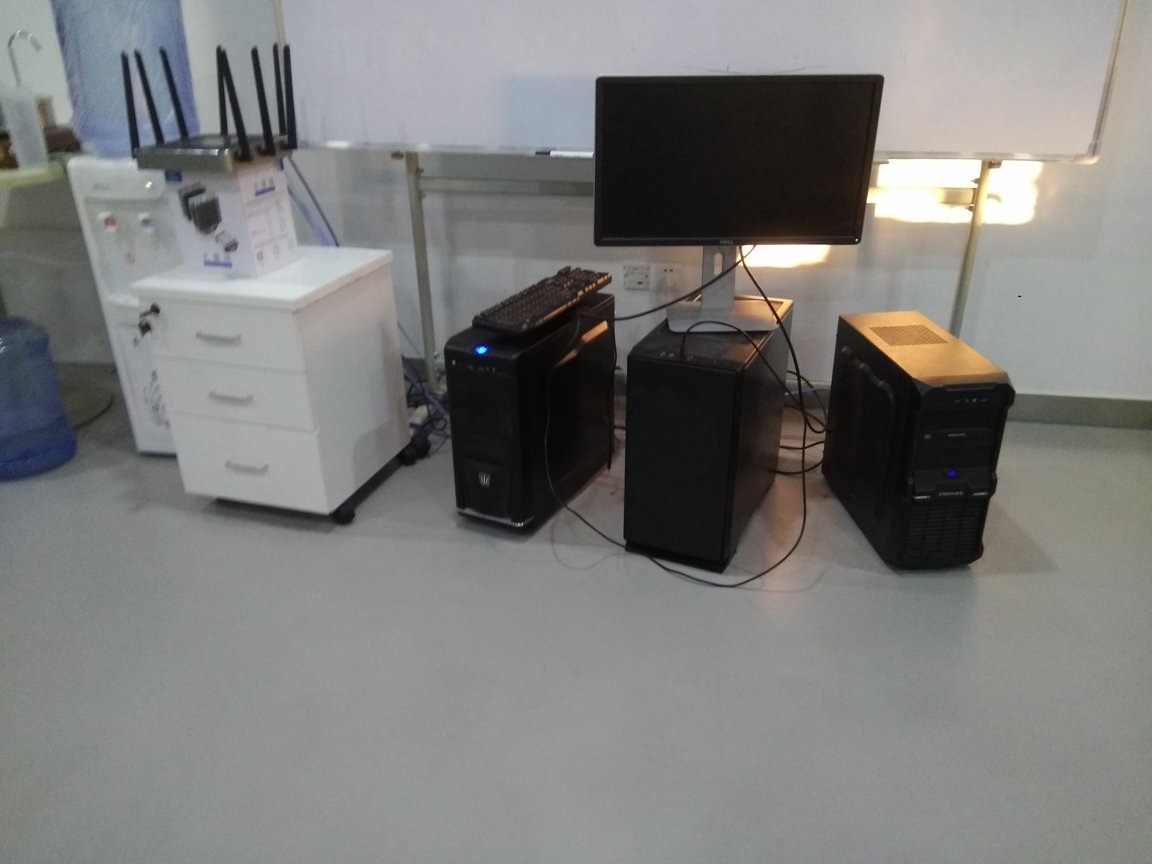computer: (625, 291, 788, 584), (833, 311, 1004, 576), (444, 290, 618, 540)
drawer chest: (138, 245, 414, 530)
monitor: (593, 71, 870, 342)
scuttlebutt: (45, 1, 217, 162), (1, 305, 88, 485)
water dispenser: (68, 149, 241, 478)
